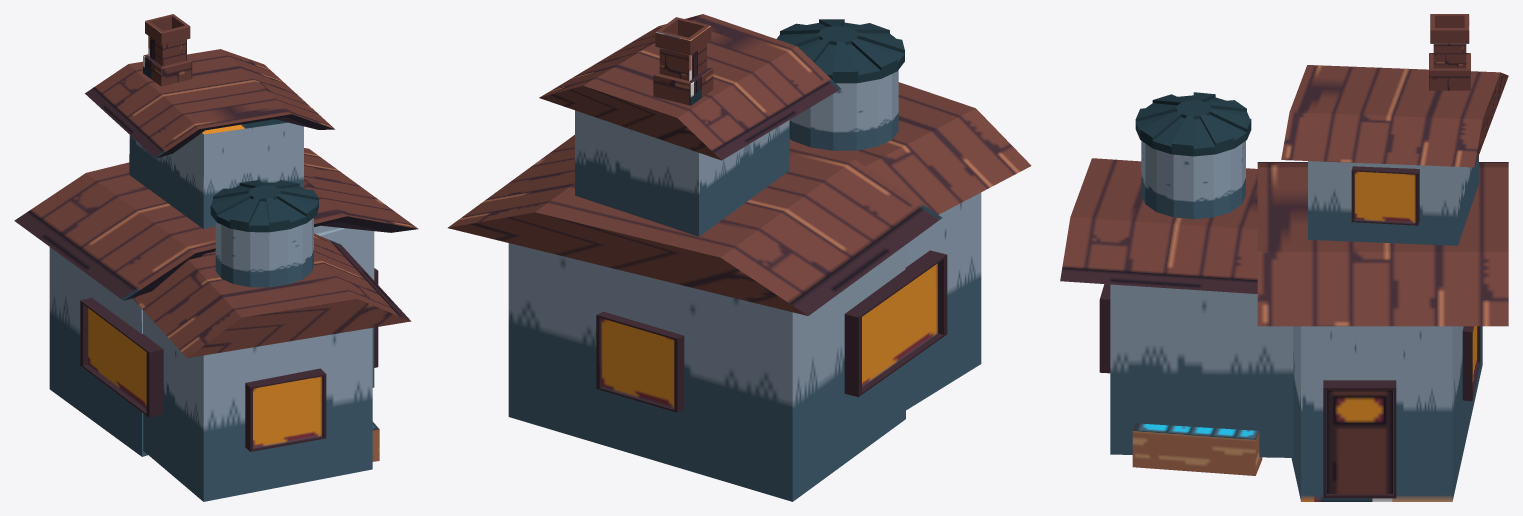
Rendered from CasaS1.fbx.
3 renders of one model, left to right at view 1: azimuth 30°, elevation 25°; view 2: azimuth 150°, elevation 25°; view 3: azimuth 270°, elevation 25°, orthographic. The views are drawn at different scales.
Parts seen in each view (by area): view 1: Casa 1; view 2: Casa 1; view 3: Casa 1.
Part boxes in pixels (x1,y1,x2,y2): Casa 1: (14, 14, 418, 501); Casa 1: (448, 14, 1031, 501); Casa 1: (1060, 14, 1508, 501).
Size of the model in its own units: 716 by 812 by 808.
